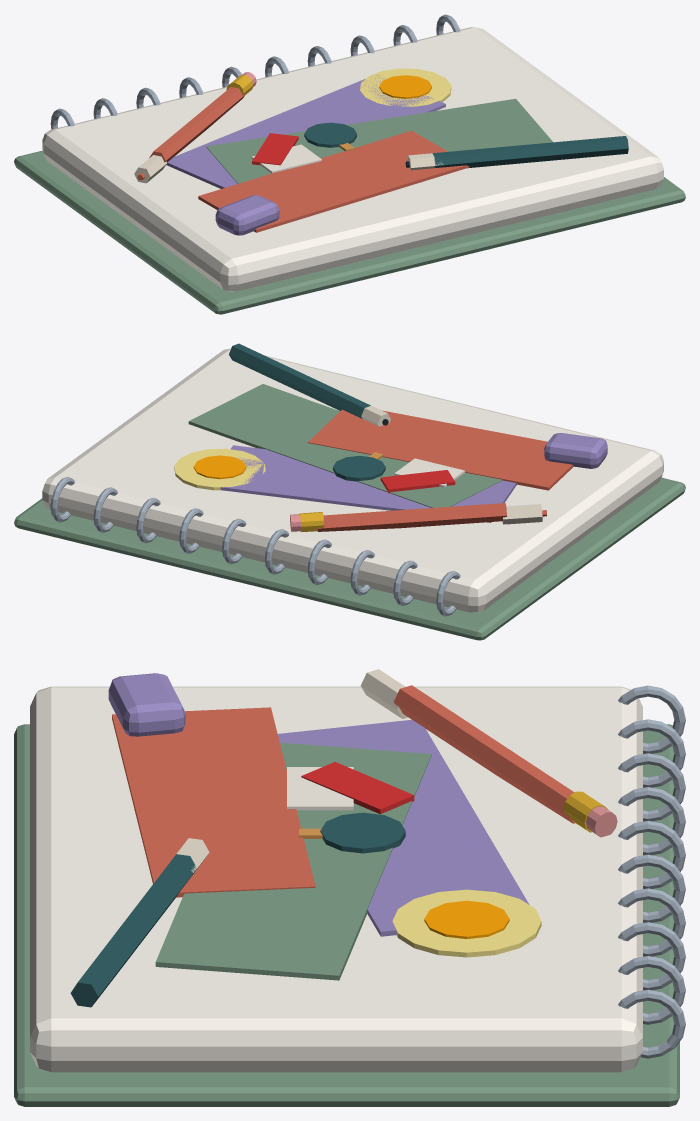
Rendered from Collectible_DrawingSketchbook.glb.
3 views of the same model, one above another, from view 1: azimuth 30°, elevation 25°; view 2: azimuth 150°, elevation 25°; view 3: azimuth 270°, elevation 25° (orthographic). The views are drawn at different scales.
Parts seen in each view (by area): view 1: Collectible_DrawingSketchbook; view 2: Collectible_DrawingSketchbook; view 3: Collectible_DrawingSketchbook.
Part boxes in pixels (x1,y1,x2,y2): Collectible_DrawingSketchbook: (14, 14, 685, 314); Collectible_DrawingSketchbook: (14, 343, 685, 640); Collectible_DrawingSketchbook: (14, 669, 685, 1106).
Bounding box in the file's own units: 0.33 × 0.044 × 0.2522.
